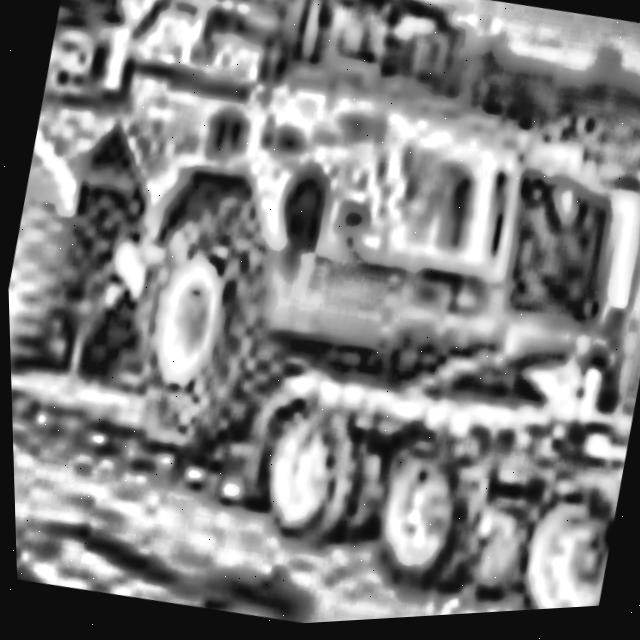dump_truck: (0, 0, 640, 531)
